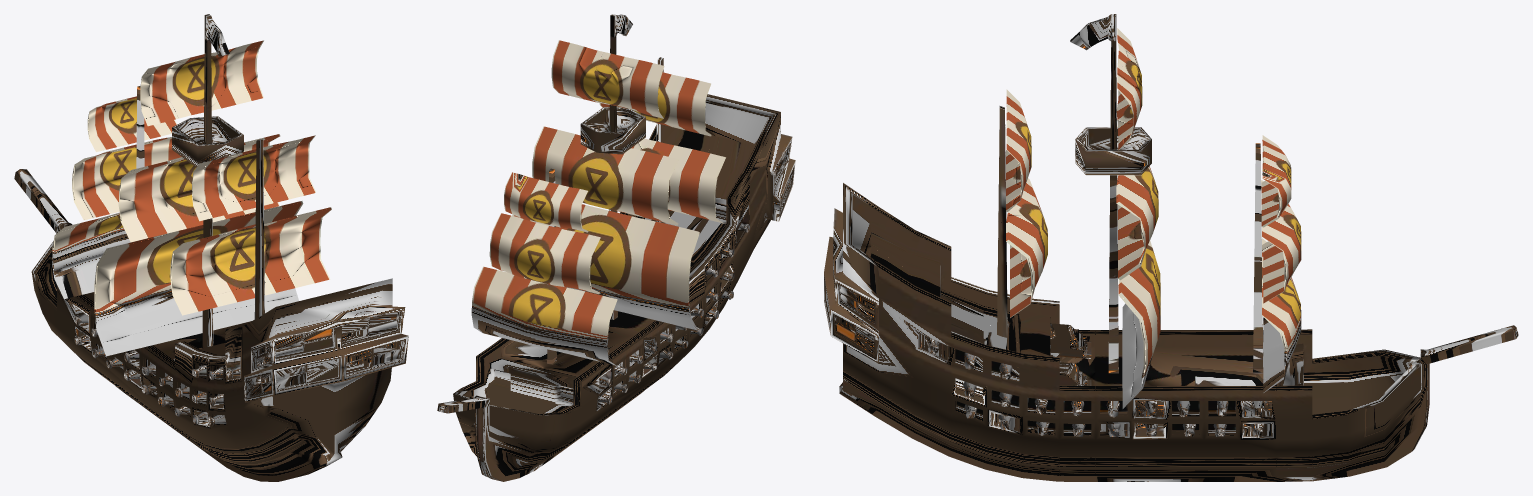
The model's file is merchant.glb.
3 renders of one model, left to right at view 1: azimuth 30°, elevation 25°; view 2: azimuth 150°, elevation 25°; view 3: azimuth 270°, elevation 25°, orthographic. The views are drawn at different scales.
Parts seen in each view (by area): view 1: Ship__0; view 2: Ship__0; view 3: Ship__0.
Boxes of the visible parts, x1,y1,x2,y2 form: Ship__0: (14,14,408,481); Ship__0: (437,14,795,481); Ship__0: (824,14,1518,481).
Bounding box in the file's own units: 9.08 × 19.13 × 26.
1 material, 1 textured.
